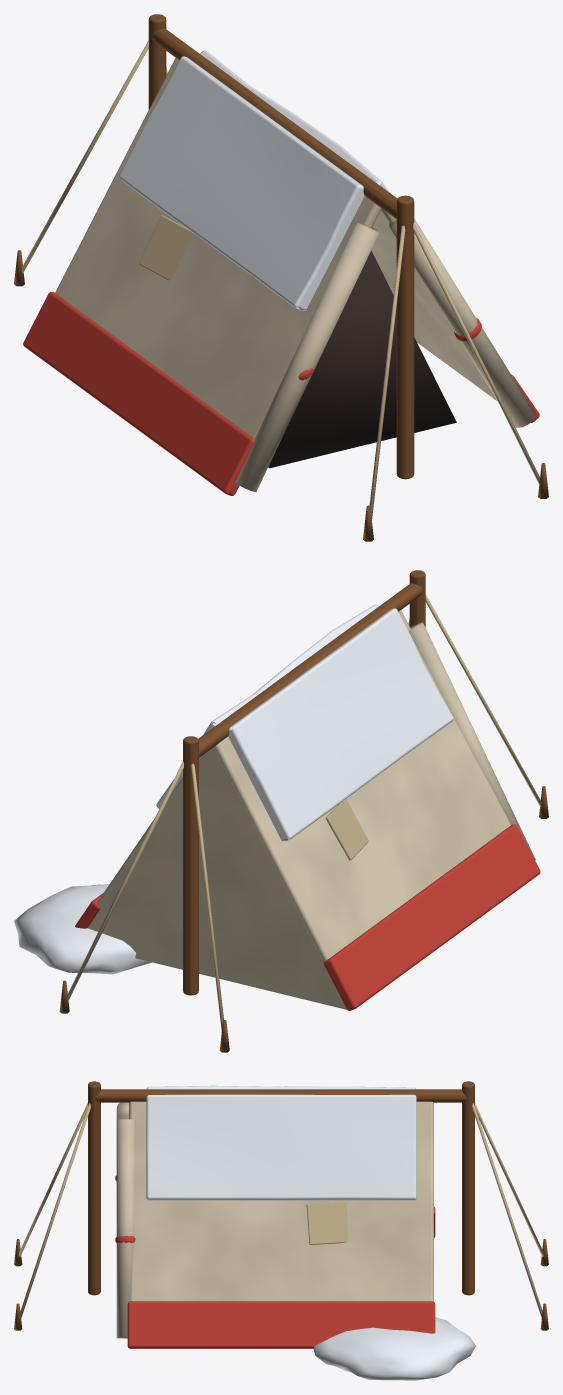
Rendered from tent_a.glb.
3 views of the same model, one above another, from view 1: azimuth 30°, elevation 25°; view 2: azimuth 150°, elevation 25°; view 3: azimuth 270°, elevation 25° (orthographic). The views are drawn at different scales.
Visible parts, largest first — view 1: back; view 2: back; view 3: back.
Boxes of the visible parts, x1,y1,x2,y2 form: back: [14, 14, 548, 541]; back: [14, 570, 548, 1052]; back: [14, 1081, 548, 1380].
Bounding box in the file's own units: 2.41 × 1.83 × 3.86.
Materials: 1 (1 with a texture image).
